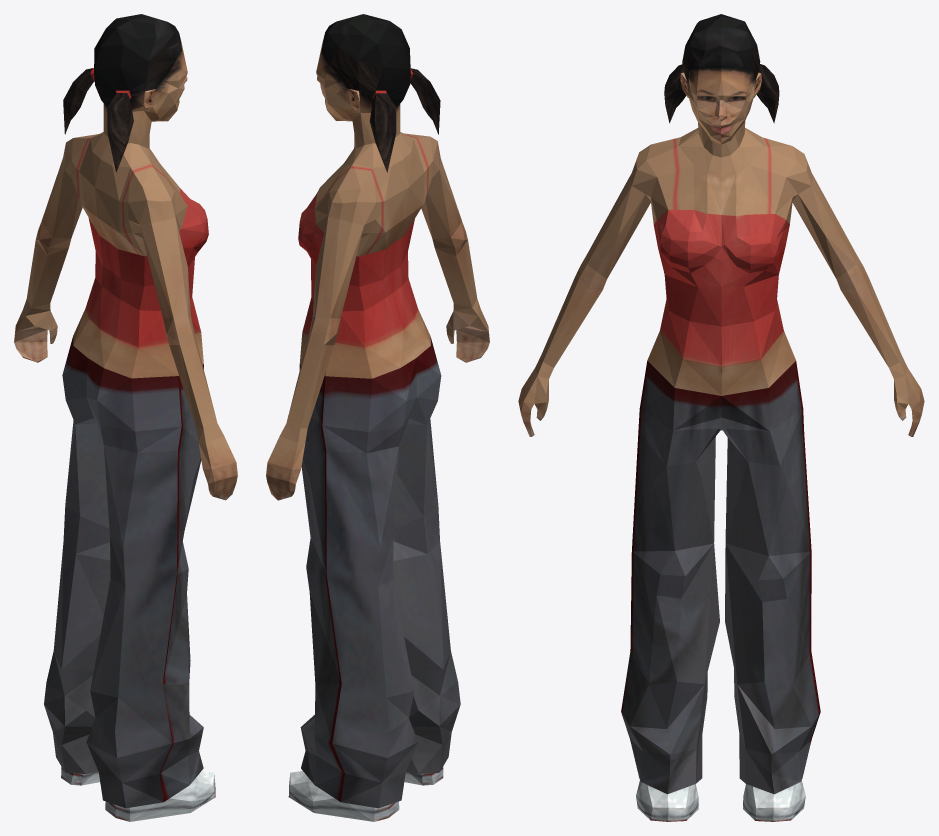
The model's file is nurgrl3.obj.
The picture shows the model from 3 angles, left to right: view 1: azimuth 30°, elevation 25°; view 2: azimuth 150°, elevation 25°; view 3: azimuth 270°, elevation 25°; orthographic projection.
Parts seen in each view (by area): view 1: _Pelvis; view 2: _Pelvis; view 3: _Pelvis.
Boxes of the visible parts, x1,y1,x2,y2 form: _Pelvis: [14, 14, 237, 821]; _Pelvis: [266, 14, 489, 821]; _Pelvis: [518, 14, 924, 821].
Size of the model in its own units: 0.2866 by 1.82 by 0.8559.
Materials: 1 (1 with a texture image).
